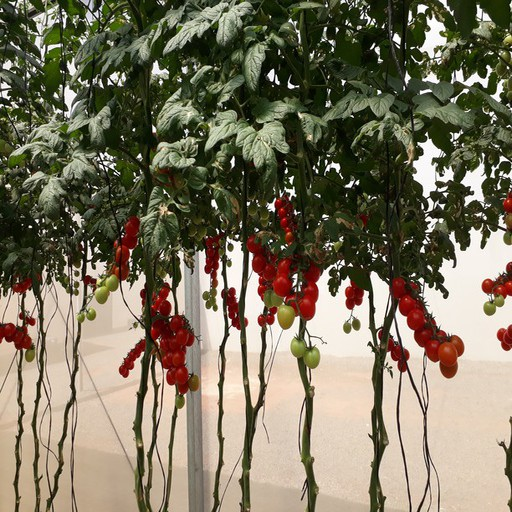green tomato bunch: (54, 272, 78, 295)
red tomato bunch: (389, 277, 465, 377), (152, 312, 194, 388), (246, 234, 275, 326), (274, 253, 319, 312), (110, 215, 141, 276), (378, 327, 410, 373), (274, 195, 301, 245), (120, 335, 150, 379), (144, 277, 172, 324), (221, 286, 248, 330), (9, 263, 39, 296), (1, 321, 31, 349), (205, 234, 220, 286)
